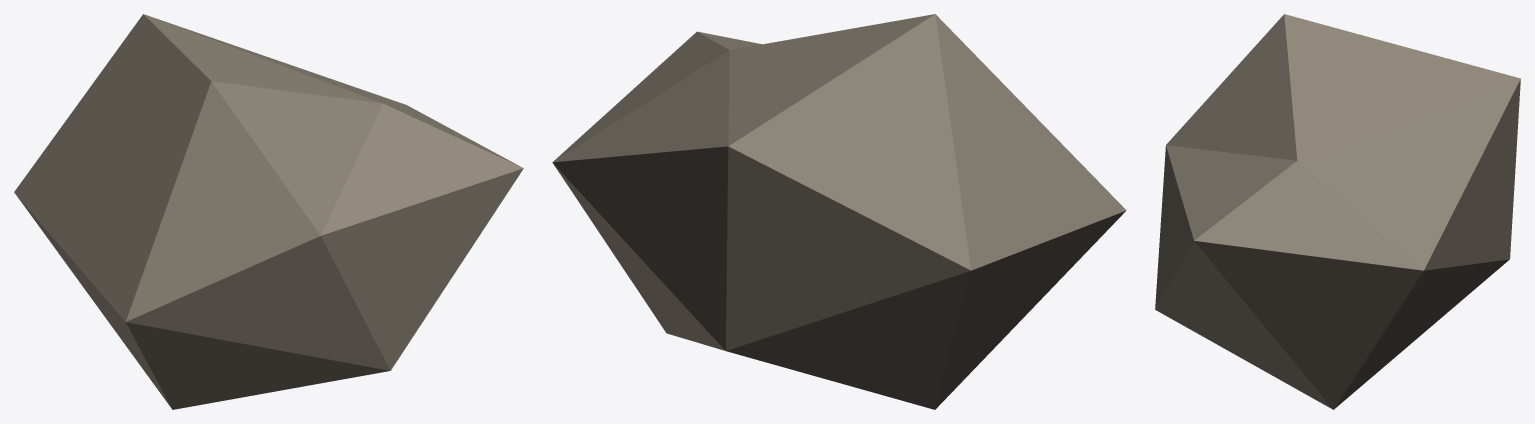
Rendered from guijarro_1.glb.
3 views of the same model, side by side, from view 1: azimuth 30°, elevation 25°; view 2: azimuth 150°, elevation 25°; view 3: azimuth 270°, elevation 25° (orthographic). The views are drawn at different scales.
Parts seen in each view (by area): view 1: guijarro_1; view 2: guijarro_1; view 3: guijarro_1.
Boxes of the visible parts, x1,y1,x2,y2 form: guijarro_1: [14, 14, 523, 409]; guijarro_1: [552, 14, 1126, 409]; guijarro_1: [1155, 14, 1520, 409].
Size of the model in its own units: 0.065 by 0.0526 by 0.0556.
